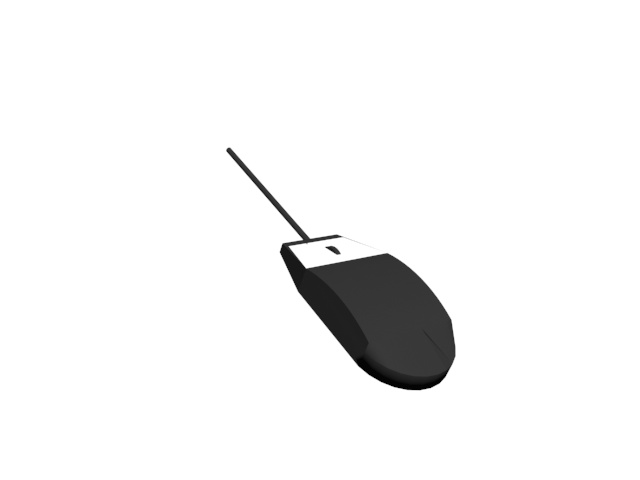mouse: (225, 145, 456, 392)
